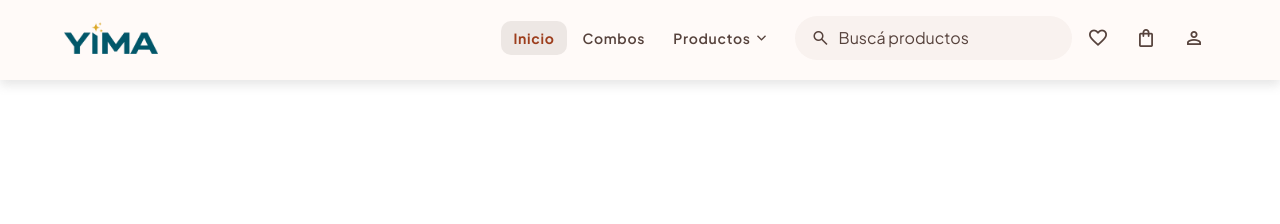
Test: Navbar - dropdown de categorías › Escape cierra el panel y devuelve el foco al disparador
The image size is (1280, 224).
Click the button "Productos": click(720, 38) [661,21,779,55]
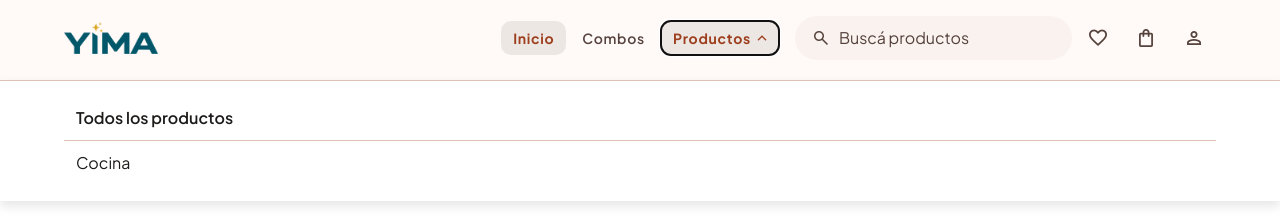
Press Escape
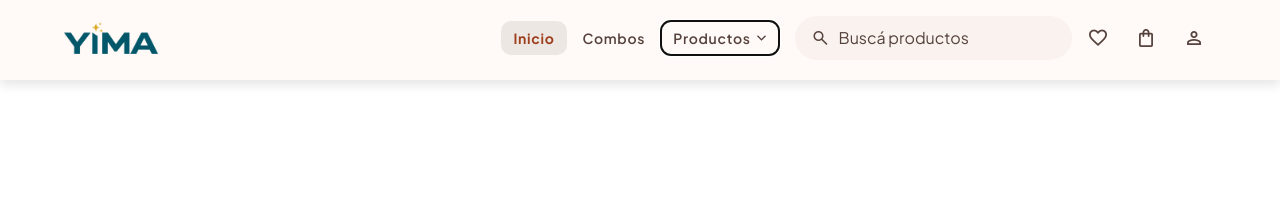
Now the button "Productos" is collapsed, box [661,21,779,55]
